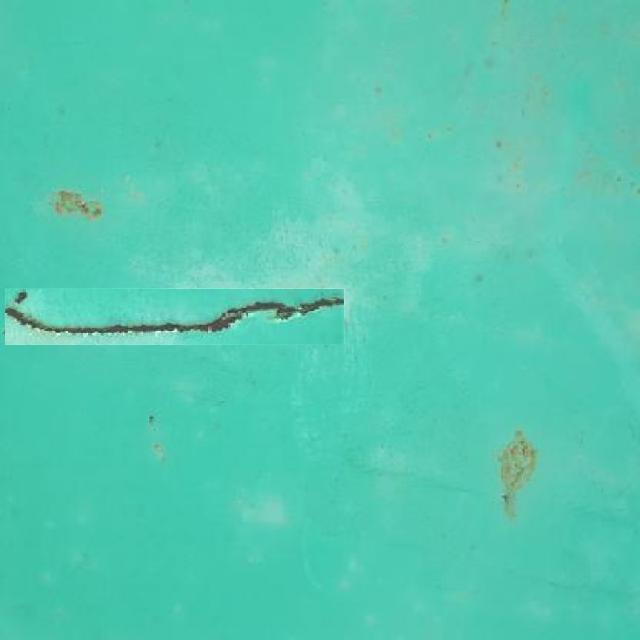Crack: (4, 290, 344, 336)
